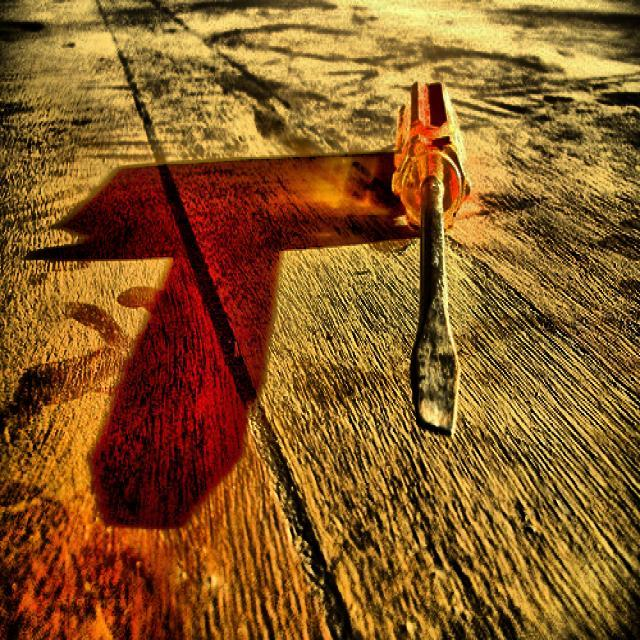screwdriver: (391, 82, 470, 437)
